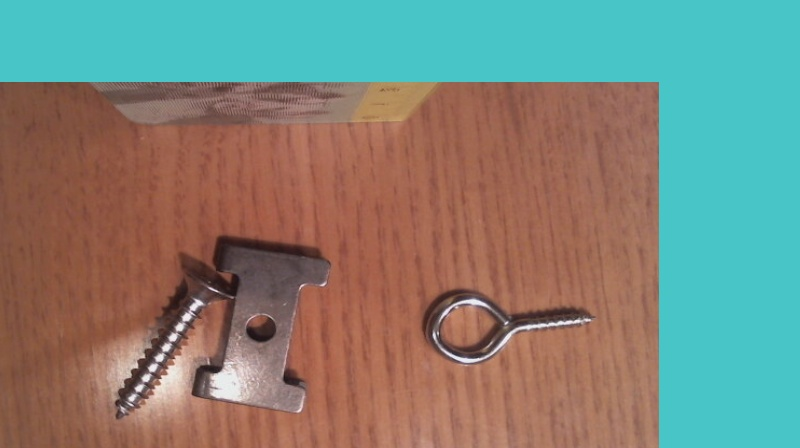O001: (419, 286, 604, 366)
O002: (187, 235, 330, 413)
S001: (110, 258, 236, 420)
